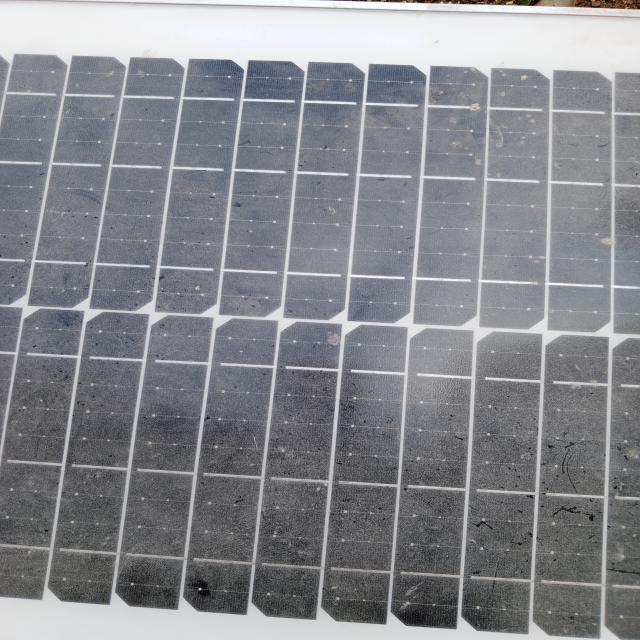Surface Contaminant: (18, 31, 639, 635)
